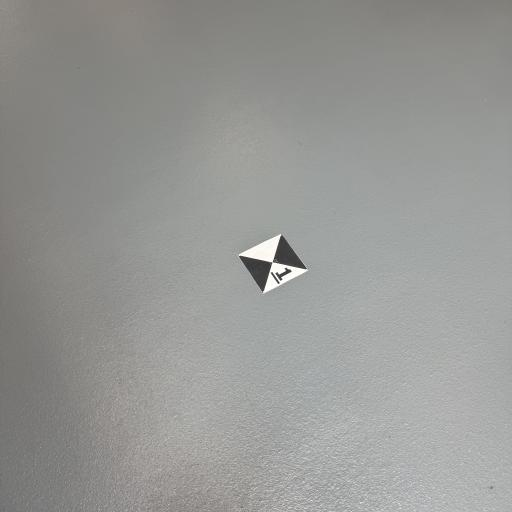target1: (234, 230, 315, 298)
